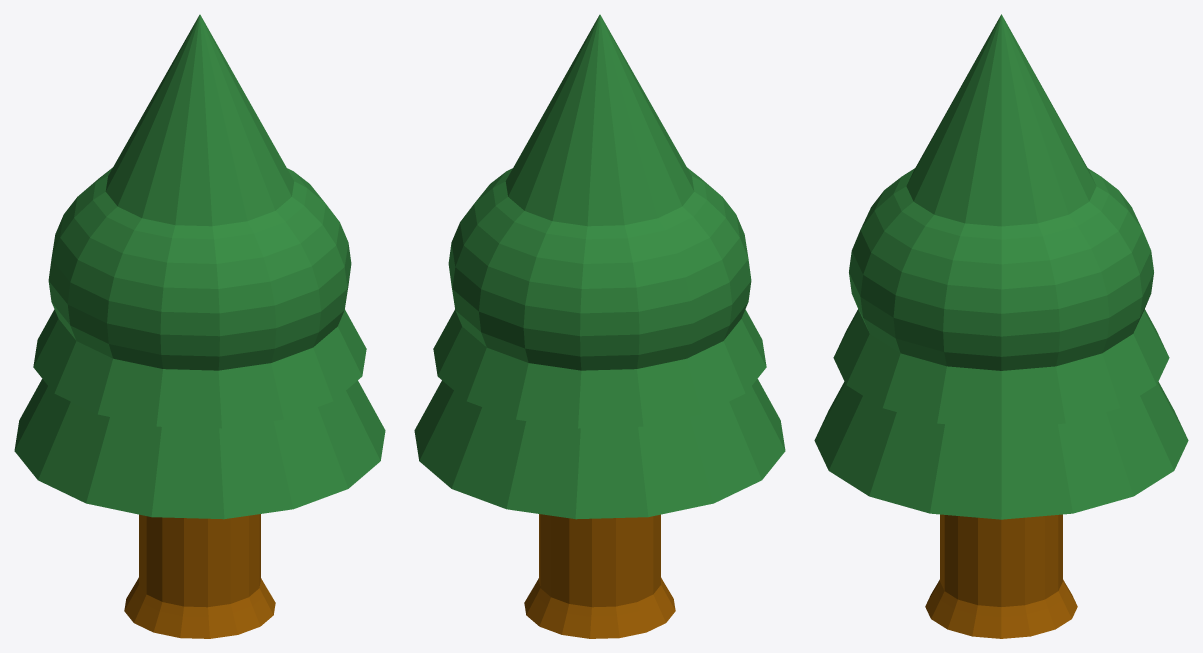
The model's file is tree.fbx.
3 views of the same model, side by side, from view 1: azimuth 30°, elevation 25°; view 2: azimuth 150°, elevation 25°; view 3: azimuth 270°, elevation 25° (orthographic).
Visible parts, largest first — view 1: Cylinder, Cylinder.001; view 2: Cylinder, Cylinder.001; view 3: Cylinder, Cylinder.001.
Boxes of the visible parts, x1,y1,x2,y2 form: Cylinder: (14,14,385,638); Cylinder.001: (48,167,351,616); Cylinder: (414,14,785,638); Cylinder.001: (448,167,751,616); Cylinder: (814,14,1188,638); Cylinder.001: (849,168,1153,616).
Bounding box in the file's own units: 245 × 428 × 245.
